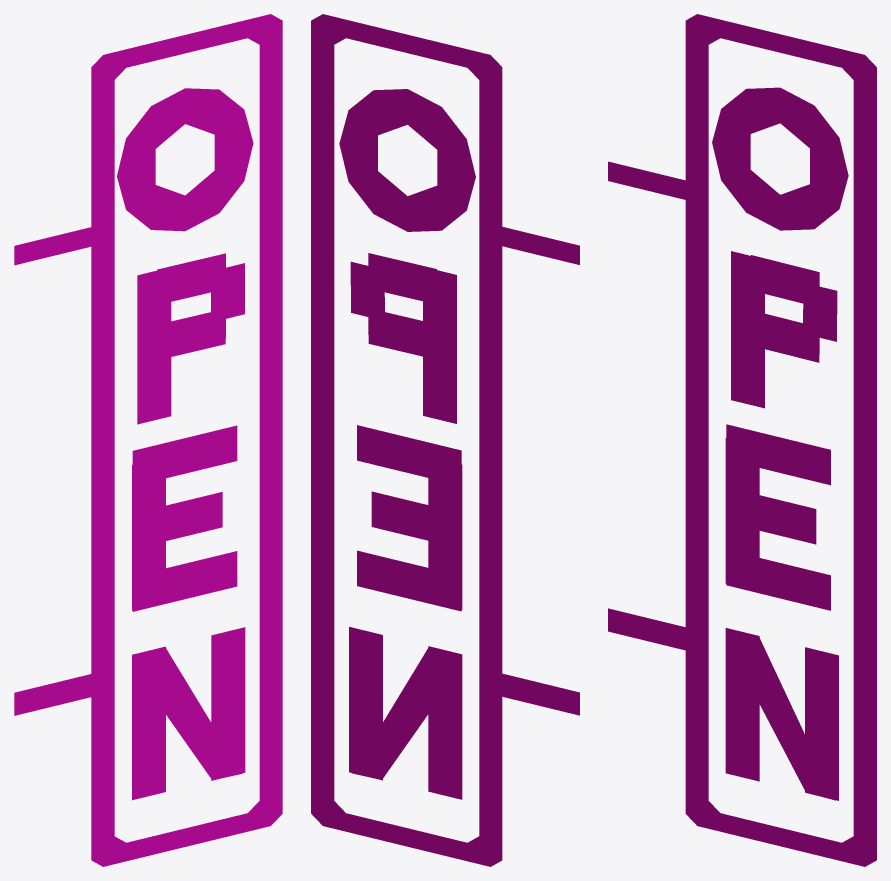
File: NeonSign_Open_Flipped.fbx
3 renders of one model, left to right at view 1: azimuth 30°, elevation 25°; view 2: azimuth 150°, elevation 25°; view 3: azimuth 330°, elevation 25°, orthographic.
Visible parts, largest first — view 1: OpenSign; view 2: OpenSign; view 3: OpenSign.
Part boxes in pixels (bbox=[...]): OpenSign: bbox=[14, 14, 282, 866]; OpenSign: bbox=[311, 14, 579, 866]; OpenSign: bbox=[608, 14, 876, 866].
Size of the model in its own units: 79.82 by 231 by 0.742.
